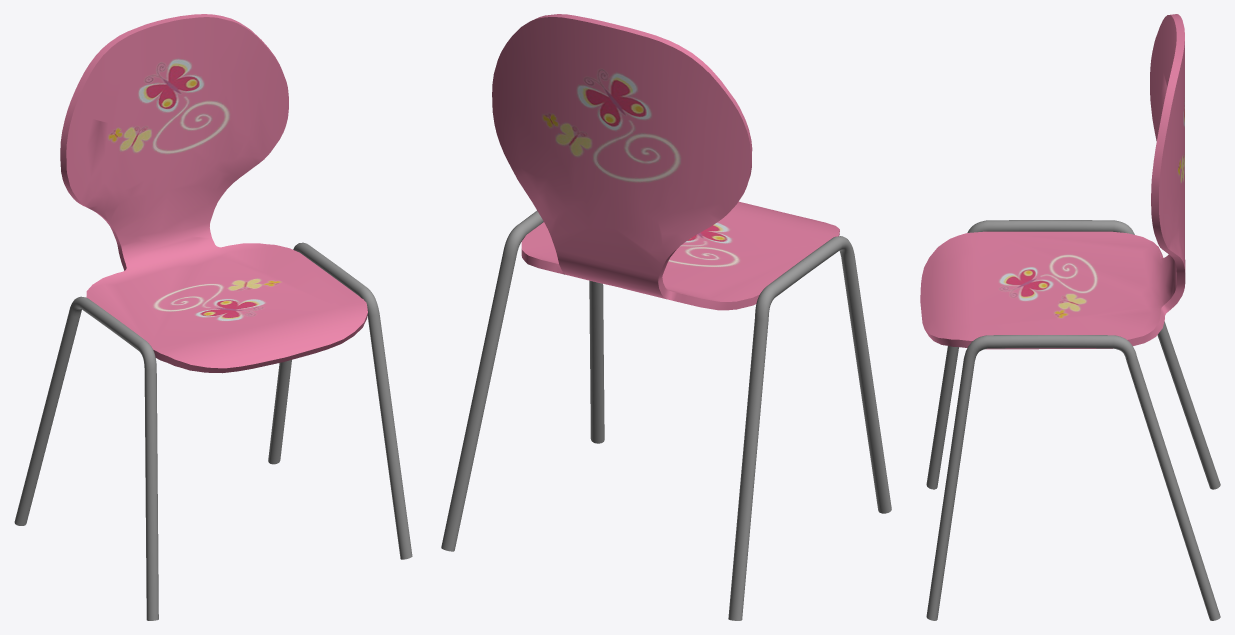
File: Chair.FBX
The picture shows the model from 3 angles, left to right: view 1: azimuth 30°, elevation 25°; view 2: azimuth 150°, elevation 25°; view 3: azimuth 270°, elevation 25°; orthographic projection. The views are drawn at different scales.
Visible parts, largest first — view 1: Chair; view 2: Chair; view 3: Chair.
Part boxes in pixels (x1,y1,x2,y2): Chair: (14, 14, 412, 620); Chair: (441, 14, 891, 620); Chair: (920, 14, 1220, 620).
Size of the model in its own units: 472 by 433 by 823.
Materials: 2 (1 with a texture image).
